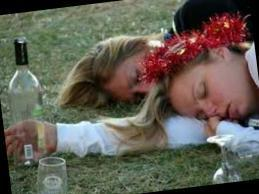Drunk: (171, 68, 253, 117)
